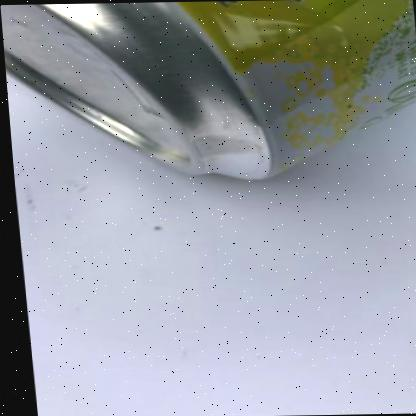Metal: (0, 0, 416, 178)
